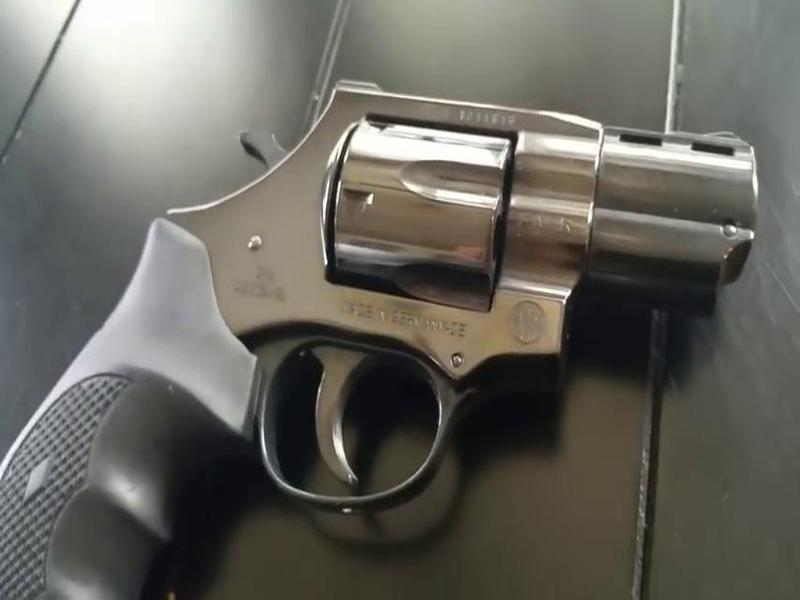Revolver: (62, 67, 772, 531)
